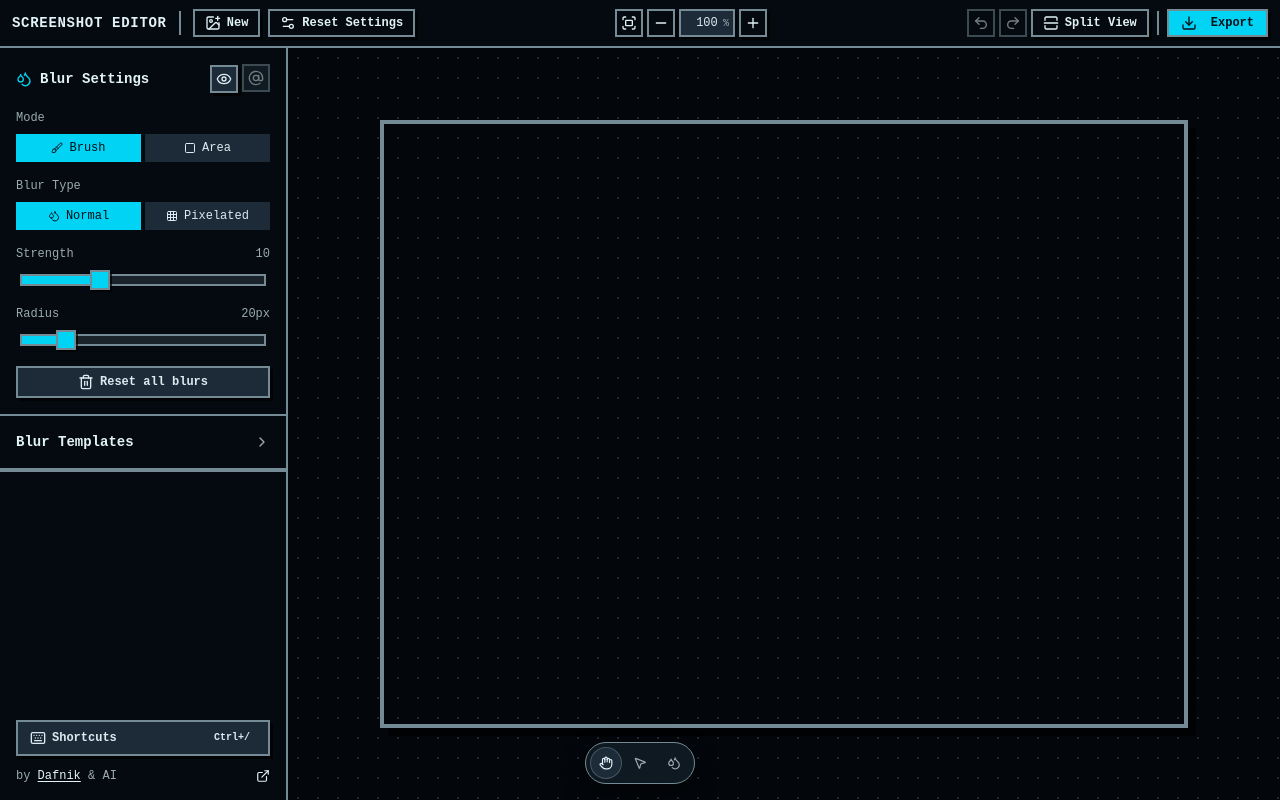
Scenario: EditorToolbar shortcut tooltips › reset settings clears skip preference so New opens confirmation modal again
Click the button "New" at (226, 23), box top-left (193, 9), bottom-right (260, 37)
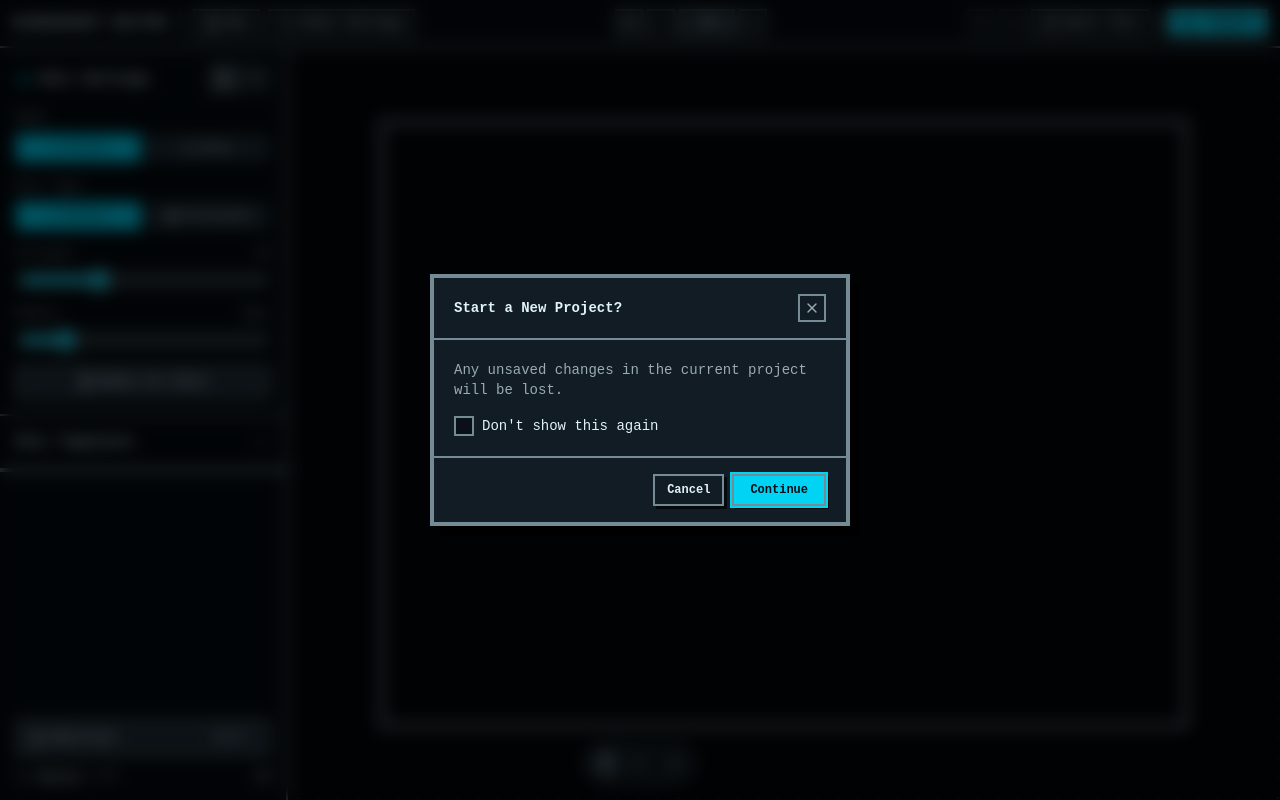
Now the heading "Start a New Project?" is shown, box top-left (454, 298), bottom-right (622, 318)
